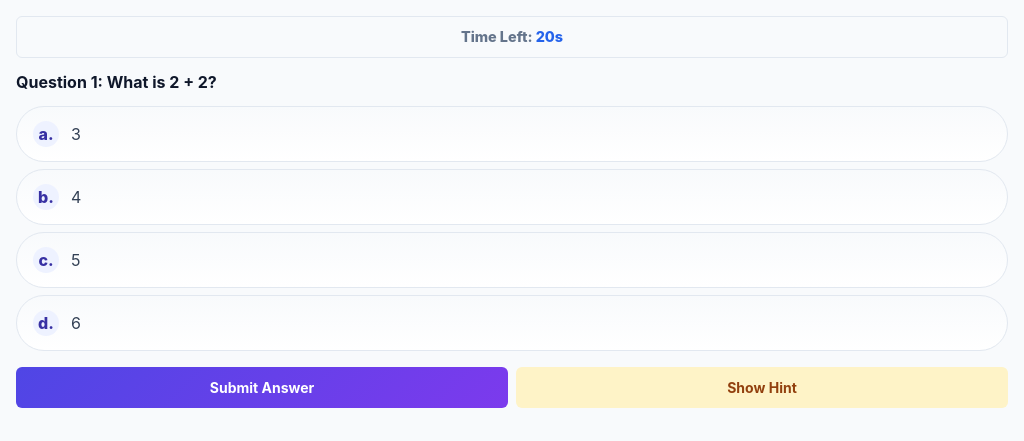
Test case: MCQCard › Answer submission › shows correct result feedback when the right answer is selected
The width and height of the screenshot is (1024, 441).
What coordinates should you click on to do the following:
click the button "b. 4"
I would click on:
 (46, 197)
Its box is [16,169,1008,225].
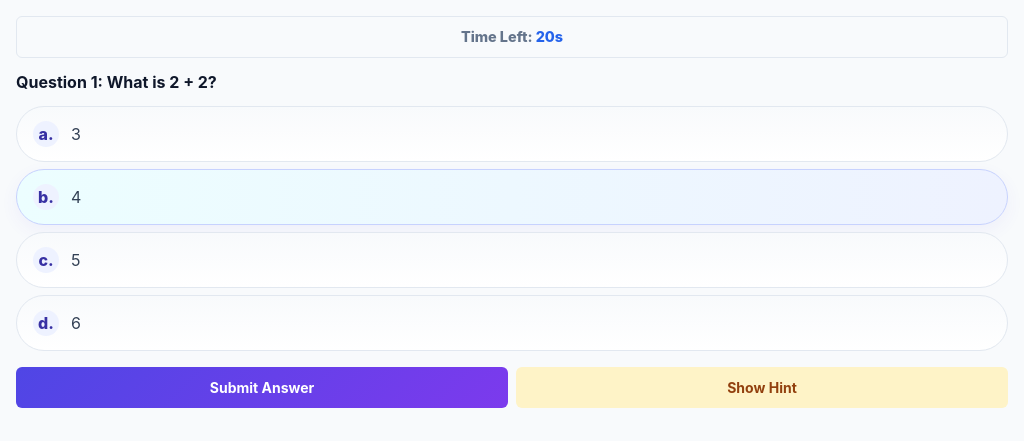
What coordinates should you click on to do the following:
click the button "Submit Answer"
I would click on:
 (262, 387)
Its box is [16,367,508,408].
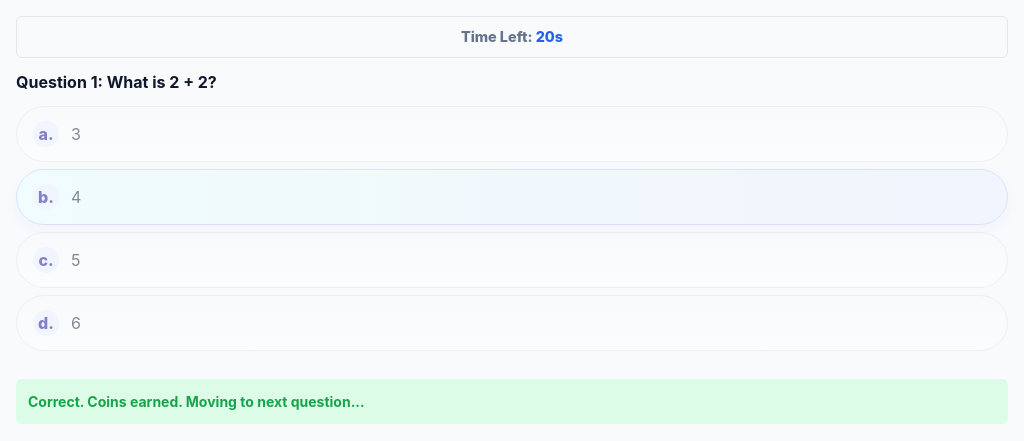
Expected: the text "Correct. Coins earned. Moving to next question..." is shown, [16,379,1008,424]
